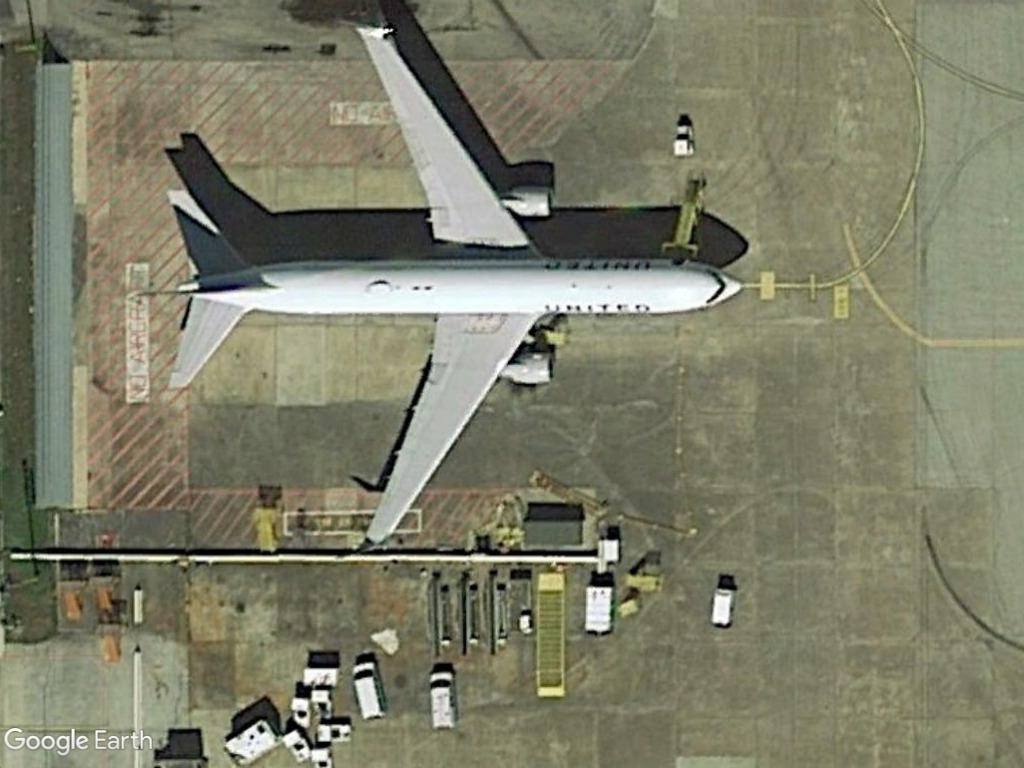airliner: (157, 22, 749, 555)
van: (347, 659, 389, 723), (423, 664, 459, 735)
